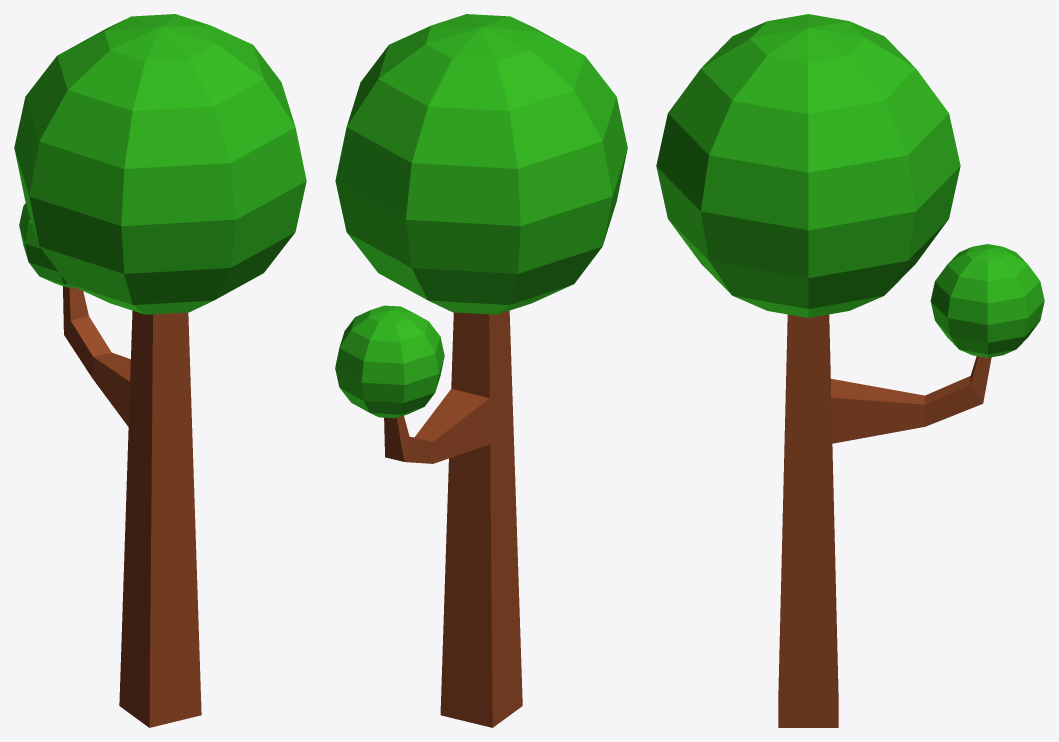
The model's file is arbol2Final.fbx.
The picture shows the model from 3 angles, left to right: view 1: azimuth 30°, elevation 25°; view 2: azimuth 150°, elevation 25°; view 3: azimuth 270°, elevation 25°; orthographic projection.
Parts seen in each view (by area): view 1: hojas.001, tronco.001; view 2: hojas.001, tronco.001; view 3: hojas.001, tronco.001.
Part boxes in pixels (x1,y1,x2,y2): hojas.001: (14, 14, 306, 314); tronco.001: (63, 286, 201, 727); hojas.001: (335, 14, 627, 418); tronco.001: (384, 310, 522, 727); hojas.001: (656, 14, 1044, 357); tronco.001: (778, 314, 991, 727).
Bounding box in the file's own units: 45.37 × 113 × 57.9.
